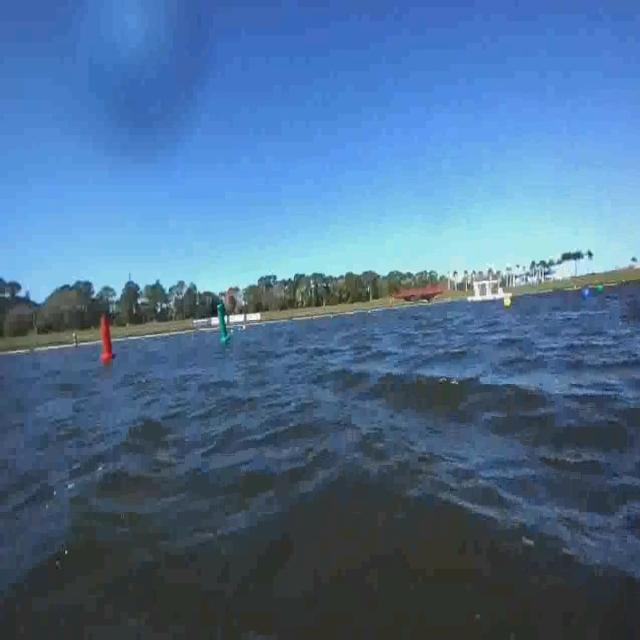green-column-buoy: (210, 289, 238, 345)
red-column-buoy: (92, 316, 121, 369)
